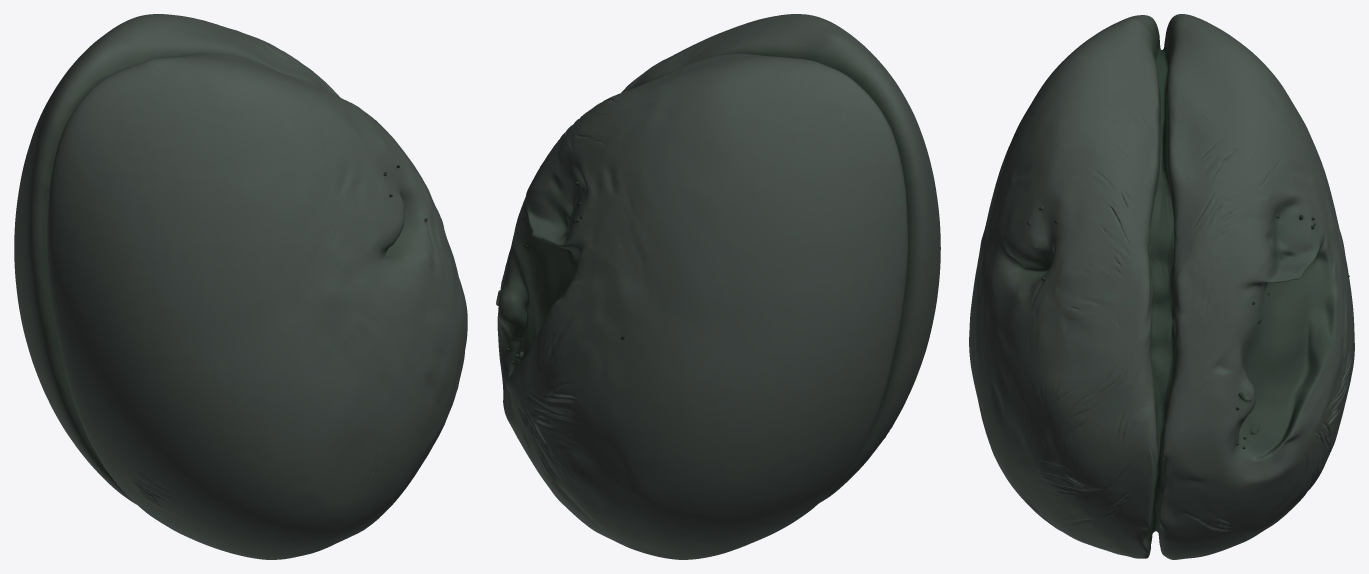
Rendered from object_dormant_seed.glb.
The picture shows the model from 3 angles, left to right: view 1: azimuth 30°, elevation 25°; view 2: azimuth 150°, elevation 25°; view 3: azimuth 270°, elevation 25°; orthographic projection. The views are drawn at different scales.
Parts seen in each view (by area): view 1: tripo_node_7d685cf5-7ece-48ef-9b0c-f321deed6d1c; view 2: tripo_node_7d685cf5-7ece-48ef-9b0c-f321deed6d1c; view 3: tripo_node_7d685cf5-7ece-48ef-9b0c-f321deed6d1c.
Boxes of the visible parts, x1,y1,x2,y2 form: tripo_node_7d685cf5-7ece-48ef-9b0c-f321deed6d1c: [14, 14, 467, 559]; tripo_node_7d685cf5-7ece-48ef-9b0c-f321deed6d1c: [496, 14, 940, 559]; tripo_node_7d685cf5-7ece-48ef-9b0c-f321deed6d1c: [969, 14, 1354, 559].
Bounding box in the file's own units: 0.8079 × 1 × 0.7584.
Materials: 1 (1 with a texture image).
